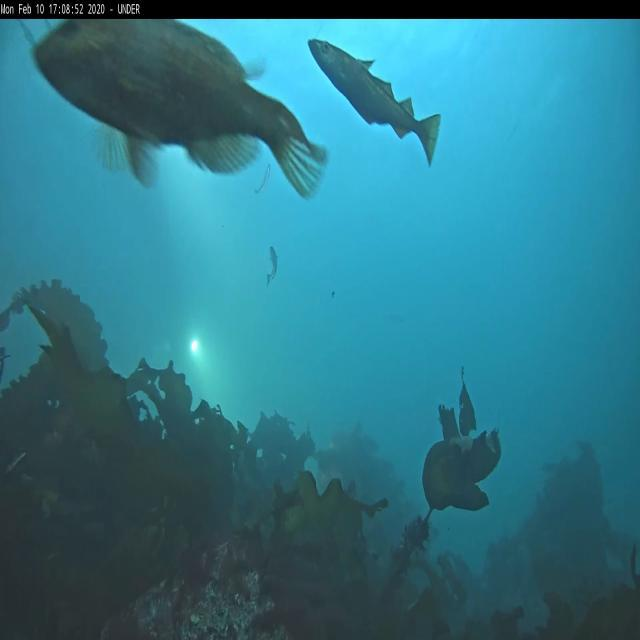fish: (31, 20, 328, 206), (308, 36, 441, 168), (254, 163, 270, 198), (266, 246, 278, 284)
